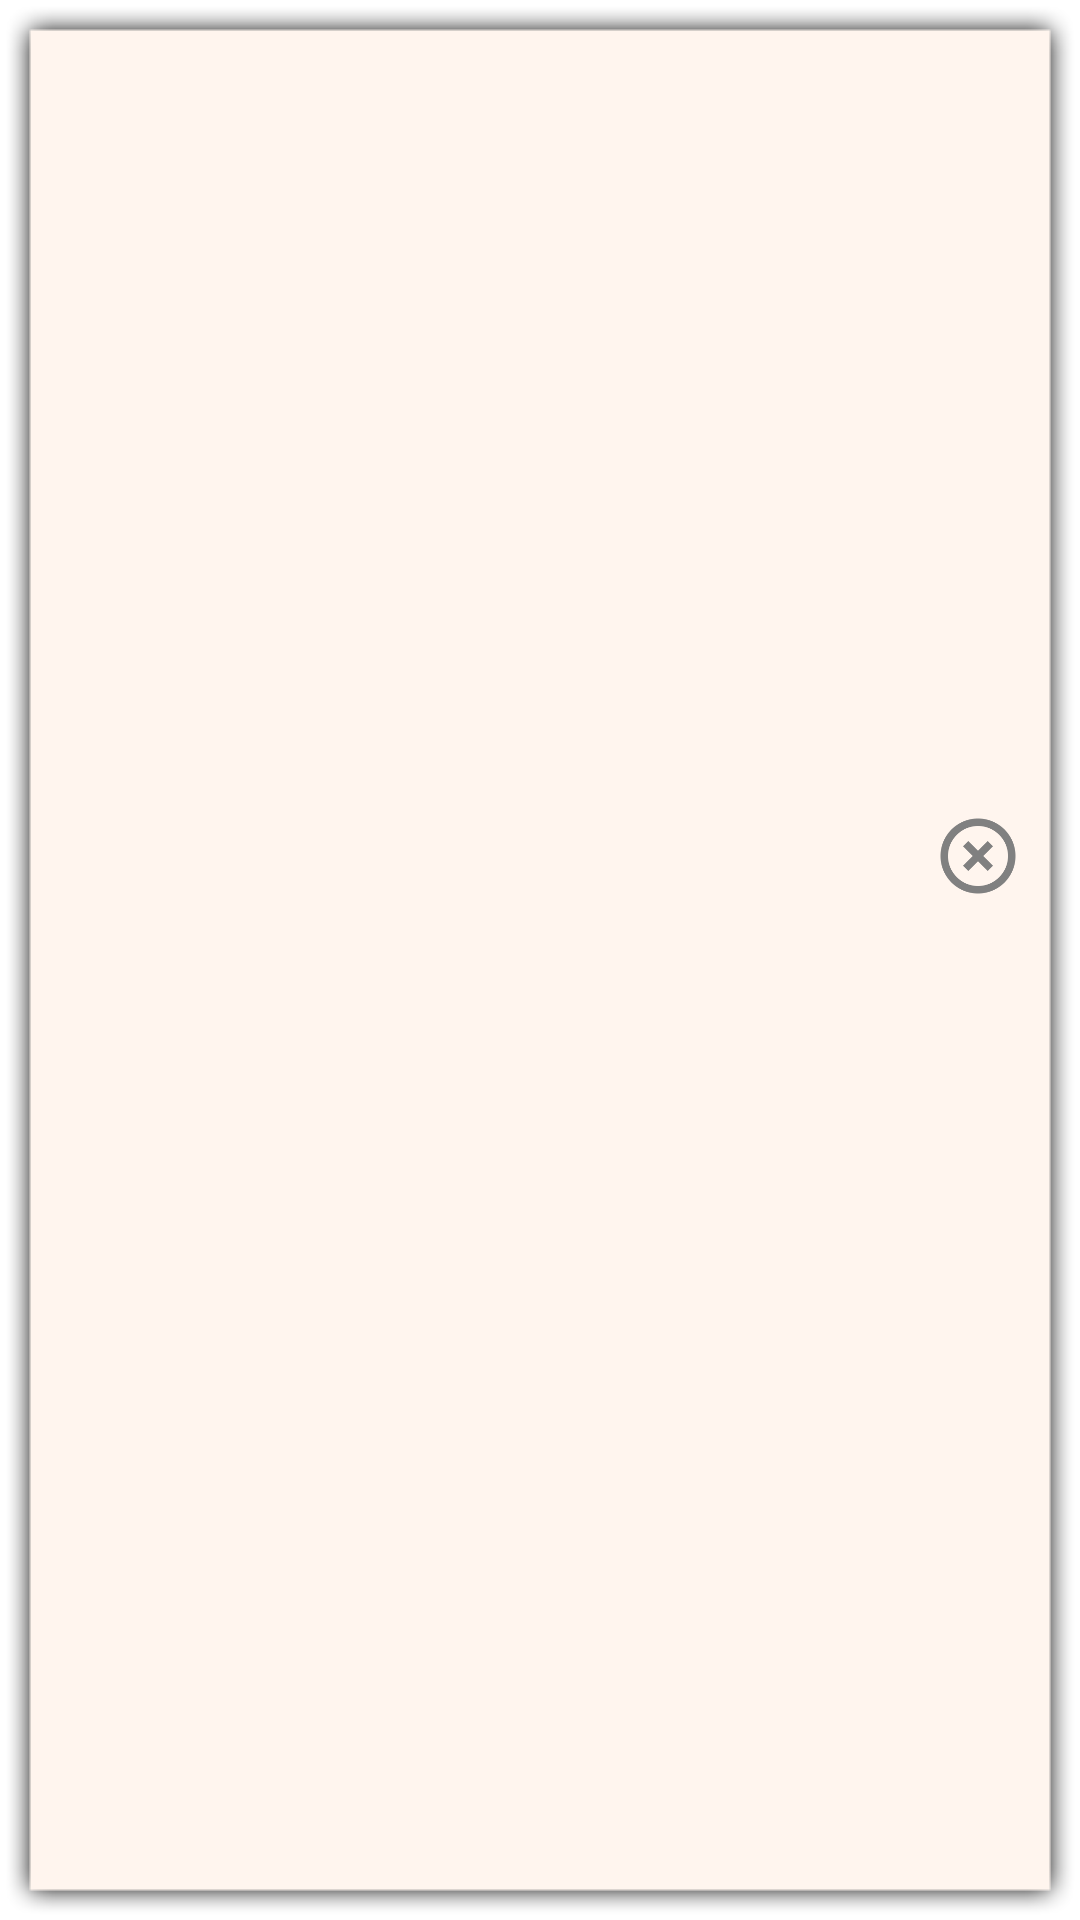

Icon bounding boxes for this 1080*1920 phone screenshot, format (x1, y1, x2, y2):
cancel: (940, 818, 1016, 894)
